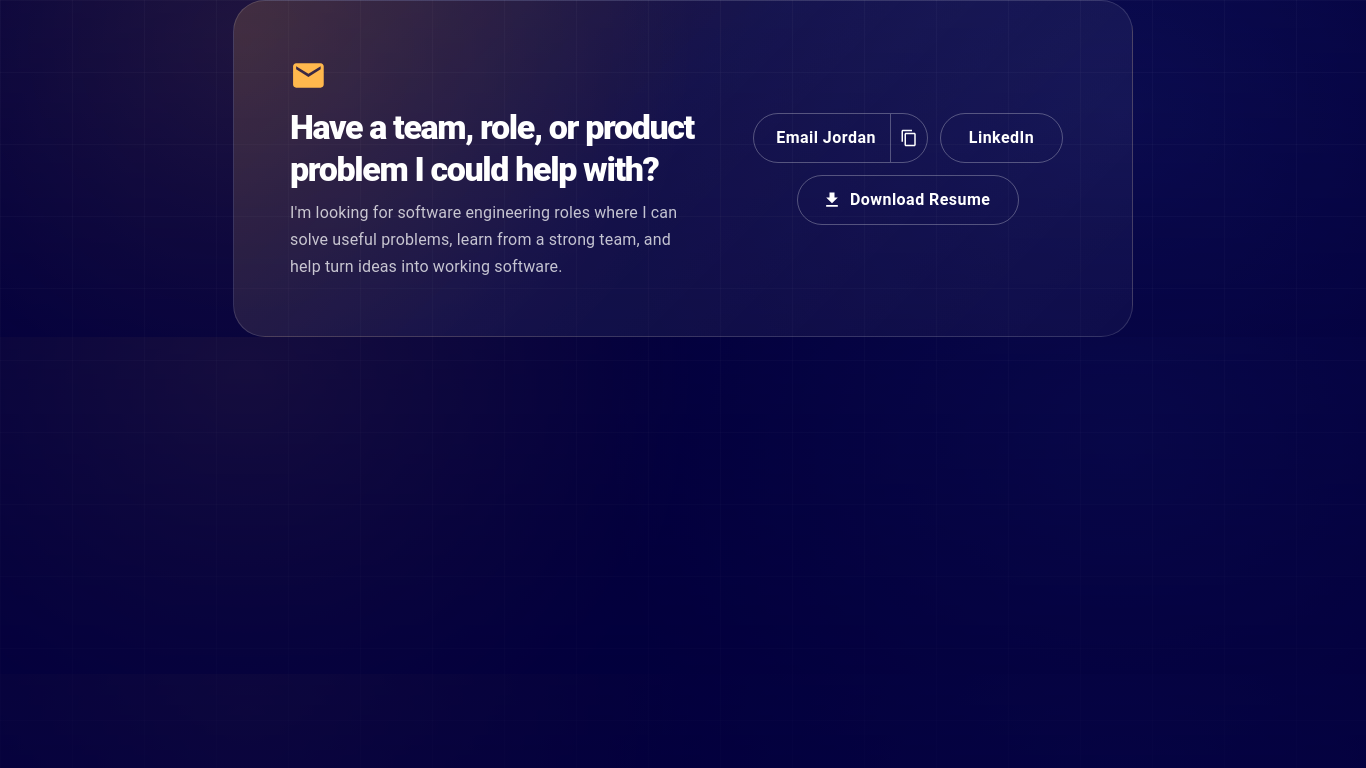
Contact actions › announces and explains when copying fails
The width and height of the screenshot is (1366, 768).
Click the button named "Copy email address".
click(909, 138)  # box [891,114,927,162]
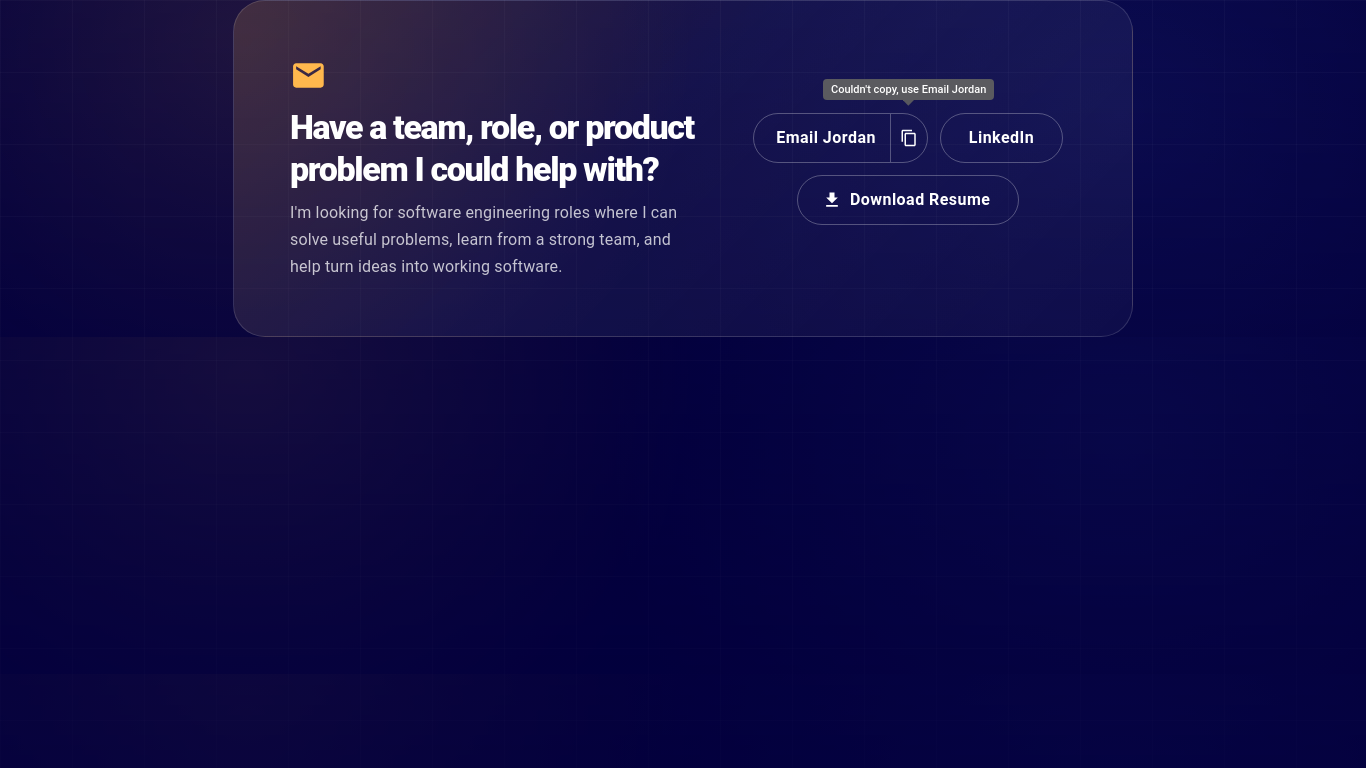
Expected: the text "Couldn't copy, use Email Jordan" is shown, [823,79,994,100]
